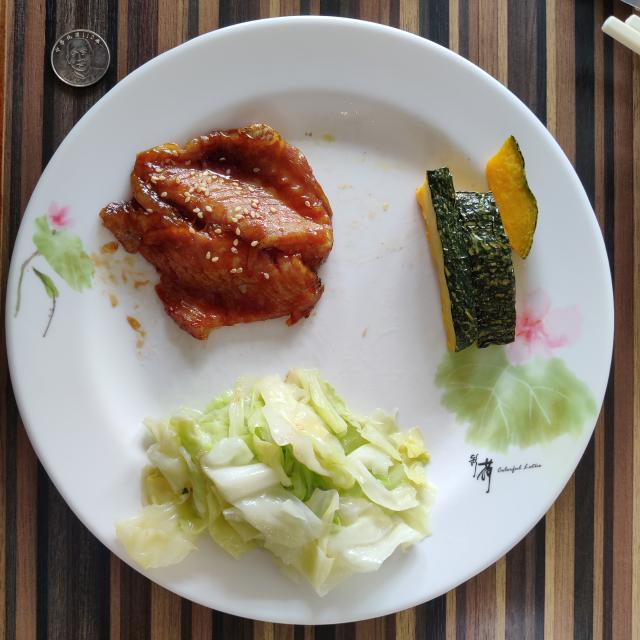Kabayaki sea bream fillet: (100, 125, 332, 339)
cabbage: (116, 370, 435, 595)
coin: (51, 30, 110, 88)
pumpkin: (416, 136, 538, 351)
